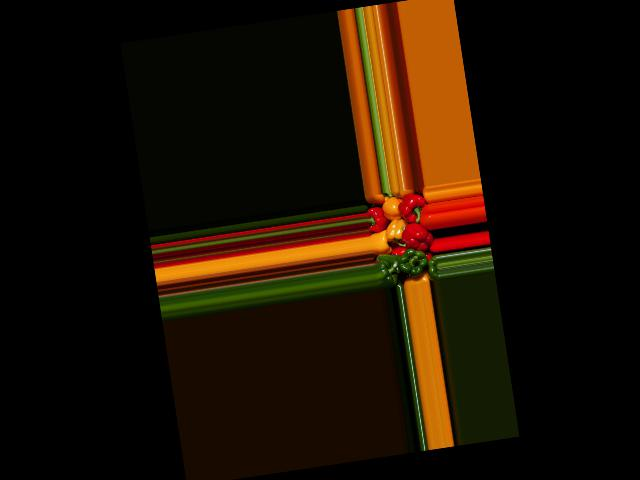bell_pepper: (422, 254, 441, 282)
